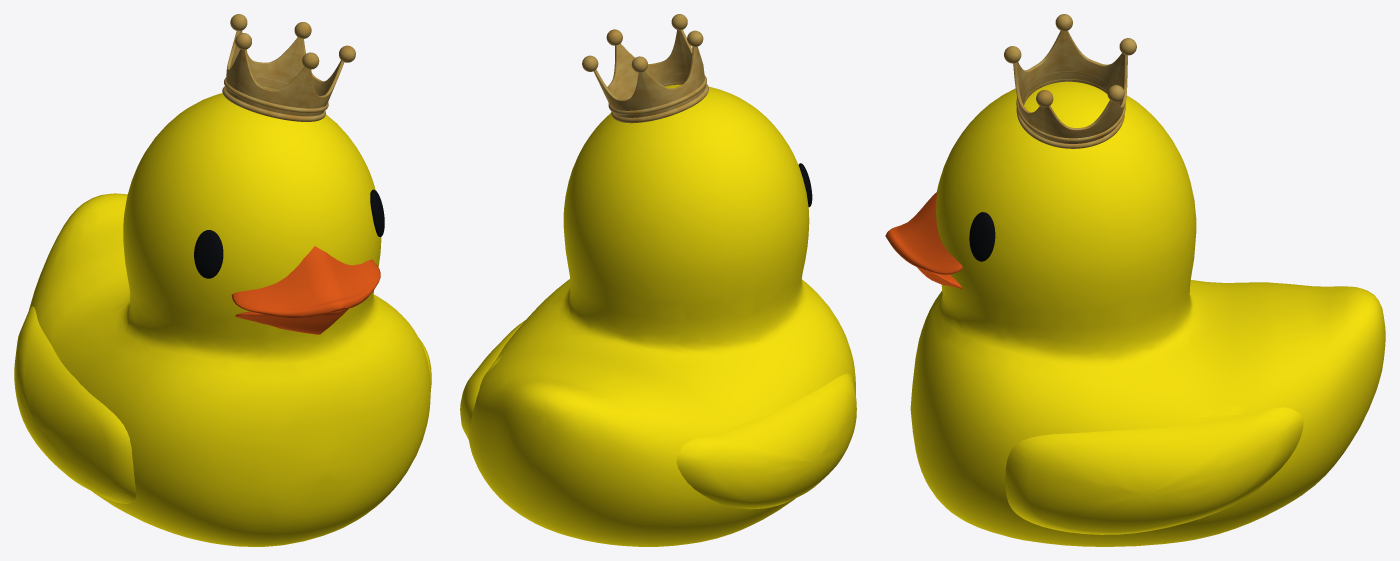
File: RubberDuck_Crown.fbx
3 renders of one model, left to right at view 1: azimuth 30°, elevation 25°; view 2: azimuth 150°, elevation 25°; view 3: azimuth 270°, elevation 25°, orthographic. The views are drawn at different scales.
Parts seen in each view (by area): view 1: RubberDuck, Crown_Gold; view 2: RubberDuck, Crown_Gold; view 3: RubberDuck, Crown_Gold.
Part boxes in pixels (x1,y1,x2,y2): RubberDuck: [14, 93, 431, 546]; Crown_Gold: [222, 14, 355, 121]; RubberDuck: [460, 84, 856, 546]; Crown_Gold: [582, 14, 708, 123]; RubberDuck: [885, 81, 1385, 546]; Crown_Gold: [1004, 14, 1136, 148].
Bounding box in the file's own units: 17.48 × 23.27 × 21.17.
Materials: 4 (1 with a texture image).
